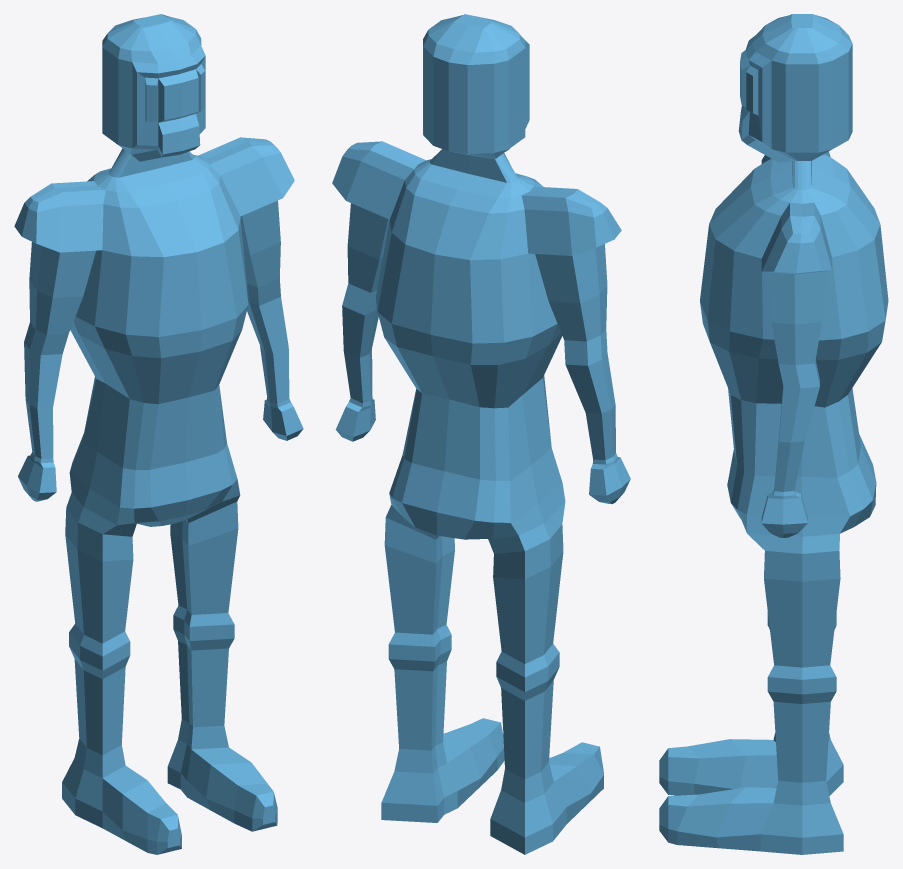
Rendered from Hero_basic.glb.
3 renders of one model, left to right at view 1: azimuth 30°, elevation 25°; view 2: azimuth 150°, elevation 25°; view 3: azimuth 270°, elevation 25°, orthographic. The views are drawn at different scales.
Visible parts, largest first — view 1: Cylinder; view 2: Cylinder; view 3: Cylinder.
Part boxes in pixels (x1,y1,x2,y2): Cylinder: [14, 14, 303, 854]; Cylinder: [332, 14, 630, 854]; Cylinder: [659, 14, 888, 854].
Bounding box in the file's own units: 1.56 × 4.32 × 1.13.
